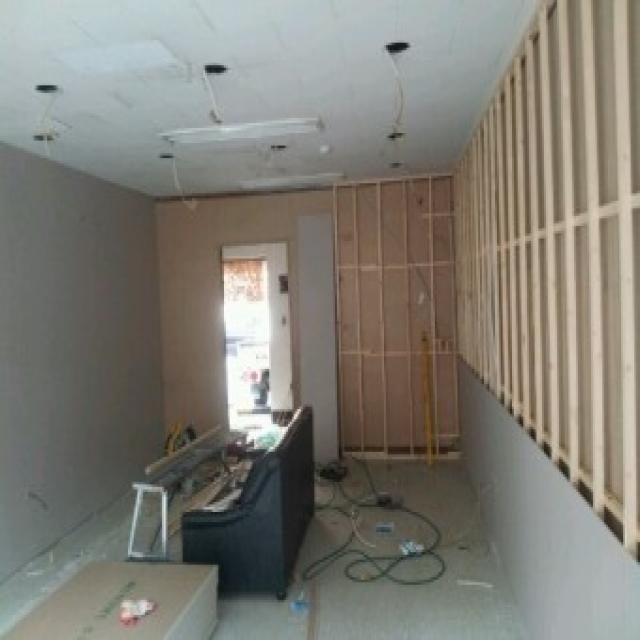board: (0, 559, 218, 640), (298, 214, 338, 464)
stud: (453, 0, 640, 562), (332, 168, 462, 464)
